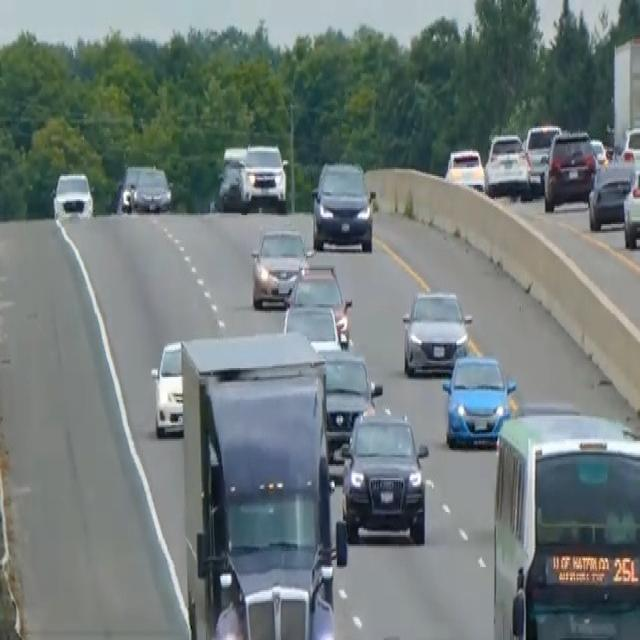bus: (490, 407, 639, 638)
car: (340, 405, 429, 544), (314, 345, 382, 455), (441, 350, 517, 448), (401, 286, 472, 375), (310, 158, 374, 252), (285, 261, 352, 345), (249, 224, 310, 308), (542, 126, 597, 212), (150, 336, 186, 437), (587, 158, 633, 231), (483, 130, 530, 199), (282, 300, 342, 350), (243, 140, 287, 208), (523, 121, 560, 192), (216, 146, 250, 210), (52, 169, 93, 220), (444, 144, 485, 192), (133, 164, 172, 212), (622, 162, 639, 247), (119, 162, 142, 212), (617, 122, 639, 170), (222, 144, 247, 167), (589, 135, 608, 165)
lorry: (178, 327, 346, 638)
